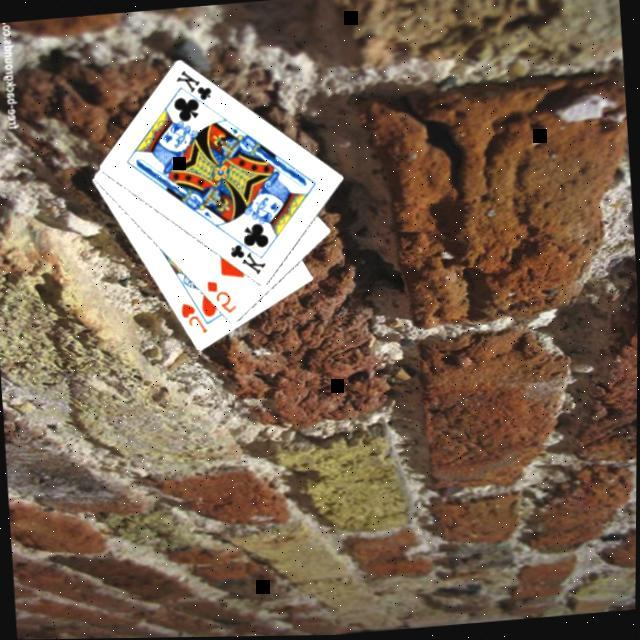5D: (205, 277, 242, 319)
JH: (179, 299, 213, 339)
KC: (227, 232, 272, 282), (174, 65, 218, 115)
